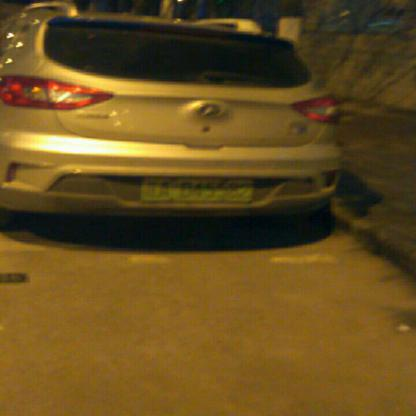lp: (141, 178, 252, 200)
